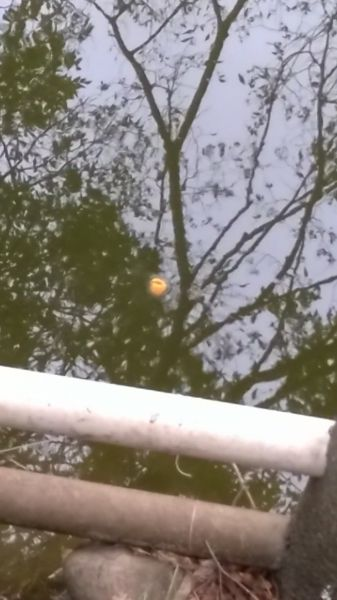eggs: (146, 273, 173, 300)
